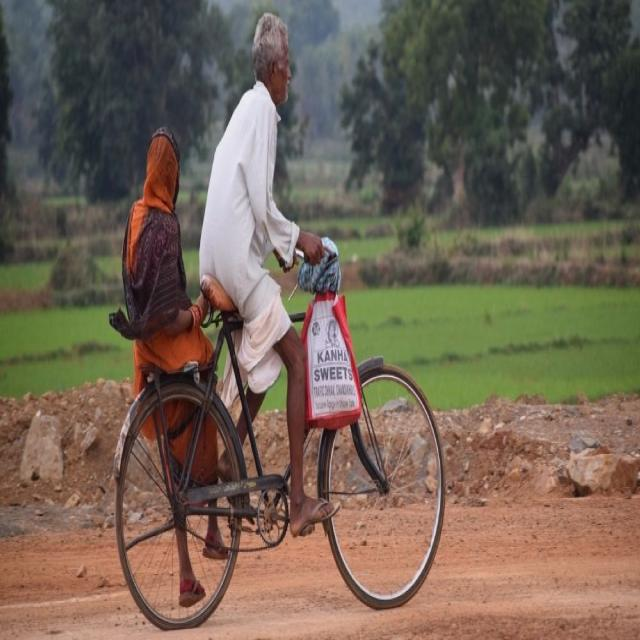bicycle: (110, 14, 444, 629)
